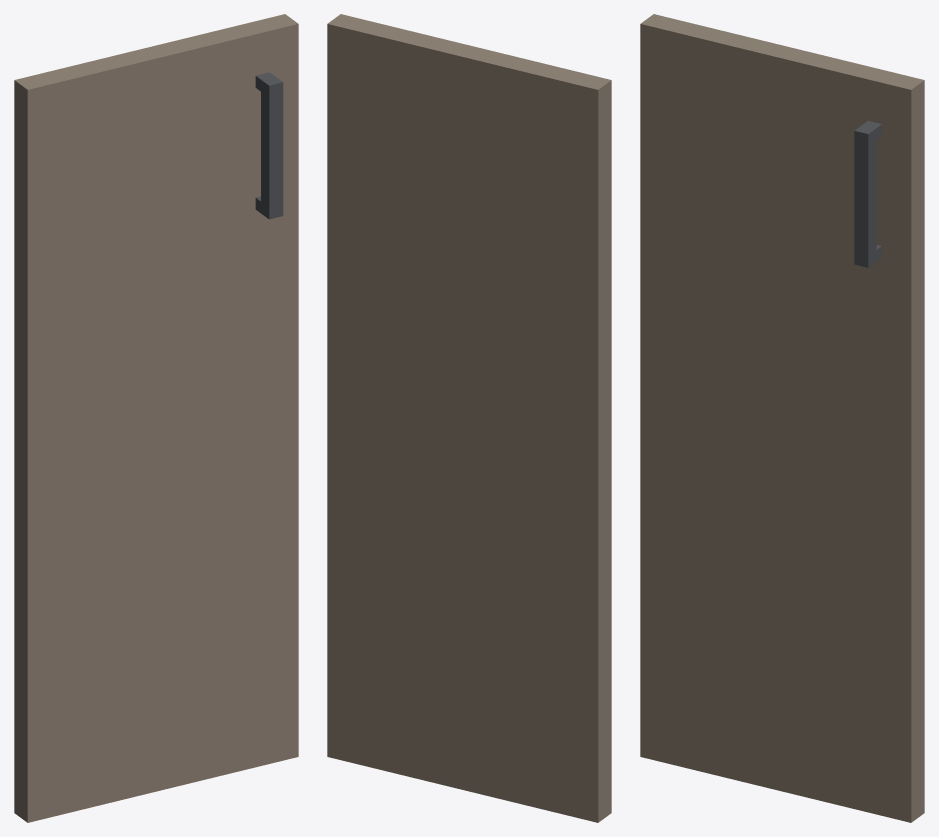
The model's file is Door1_C5_04.fbx.
3 renders of one model, left to right at view 1: azimuth 30°, elevation 25°; view 2: azimuth 150°, elevation 25°; view 3: azimuth 330°, elevation 25°, orthographic.
Parts seen in each view (by area): view 1: Door1_C5_04; view 2: Door1_C5_04; view 3: Door1_C5_04.
Part boxes in pixels (x1,y1,x2,y2): Door1_C5_04: [14, 14, 298, 822]; Door1_C5_04: [327, 14, 611, 822]; Door1_C5_04: [640, 14, 924, 822].
Bounding box in the file's own units: 29 × 75 × 5.03.
